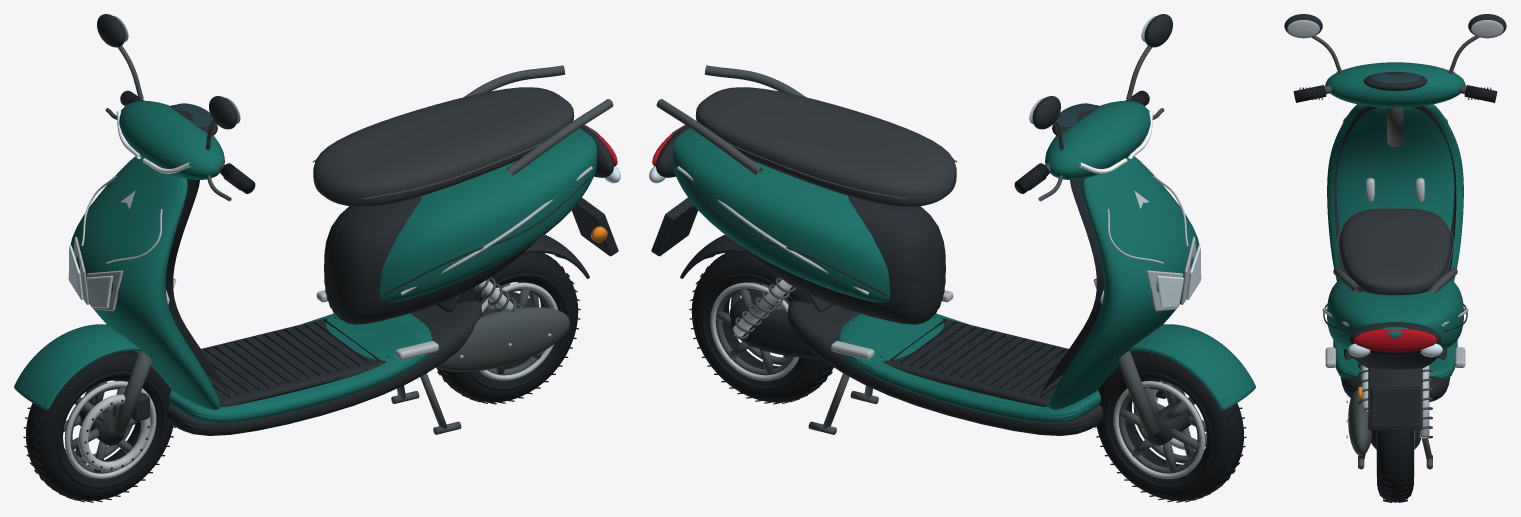
The model's file is vayu.glb.
The picture shows the model from 3 angles, left to right: view 1: azimuth 30°, elevation 25°; view 2: azimuth 150°, elevation 25°; view 3: azimuth 270°, elevation 25°; orthographic projection. The views are drawn at different scales.
Visible parts, largest first — view 1: Painted floor edge.001, Front hub.001, Saddle.001, Front tyre.001, Front alloy rim.002, Front machined rim.002, Rear turn signal.002; view 2: Painted floor edge.001, Front hub.001, Front tyre.001, Saddle.001, Front alloy rim.002, Front machined rim.002, Rear turn signal.002; view 3: Painted floor edge.001, Front hub.001, Saddle.001, Front alloy rim.002, Front tyre.001, Front machined rim.002, Tail lamp lens.001, Instrument screen.001, Rear turn signal.002.
Boxes of the visible parts, box(x1,y1,x2,y2) form: Painted floor edge.001: box(14, 100, 598, 423); Front hub.001: box(79, 14, 618, 469); Saddle.001: box(313, 87, 574, 206); Front tyre.001: box(23, 90, 580, 502); Front alloy rim.002: box(63, 45, 613, 473); Front machined rim.002: box(65, 15, 592, 478); Rear turn signal.002: box(68, 166, 620, 308); Painted floor edge.001: box(671, 100, 1255, 423); Front hub.001: box(651, 14, 1190, 445); Front tyre.001: box(689, 90, 1246, 502); Saddle.001: box(695, 87, 956, 206); Front alloy rim.002: box(656, 45, 1206, 473); Front machined rim.002: box(677, 15, 1206, 478); Rear turn signal.002: box(649, 166, 1201, 308); Painted floor edge.001: box(1325, 62, 1465, 379); Front hub.001: box(1284, 14, 1506, 449); Saddle.001: box(1339, 208, 1451, 295); Front alloy rim.002: box(1311, 35, 1479, 469); Front tyre.001: box(1293, 85, 1497, 502); Front machined rim.002: box(1287, 20, 1503, 476); Tail lamp lens.001: box(1354, 329, 1436, 352); Instrument screen.001: box(1370, 73, 1420, 83); Rear turn signal.002: box(1348, 343, 1442, 357).
Bounding box in the file's own units: 1.91 × 1.34 × 0.774.
